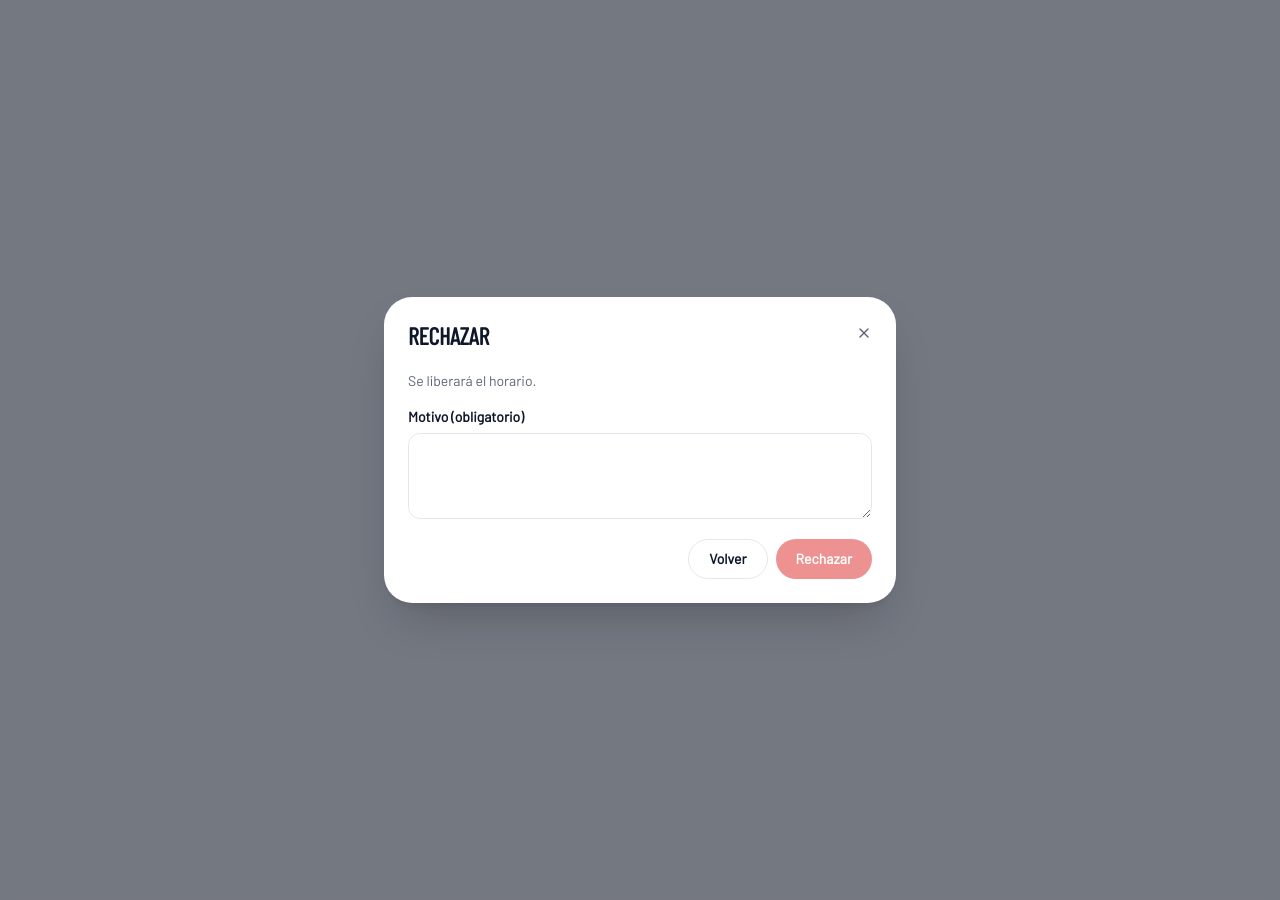
ModalMotivo › con motivo obligatorio no deja confirmar hasta escribir uno suficiente
Later steps or results of the test are not shown.
Expected: the button "Rechazar" is disabled, [776,539,872,579]
Type "ok" into the text box labelled "Motivo (obligatorio)" at (640,476), box [408,433,872,519]
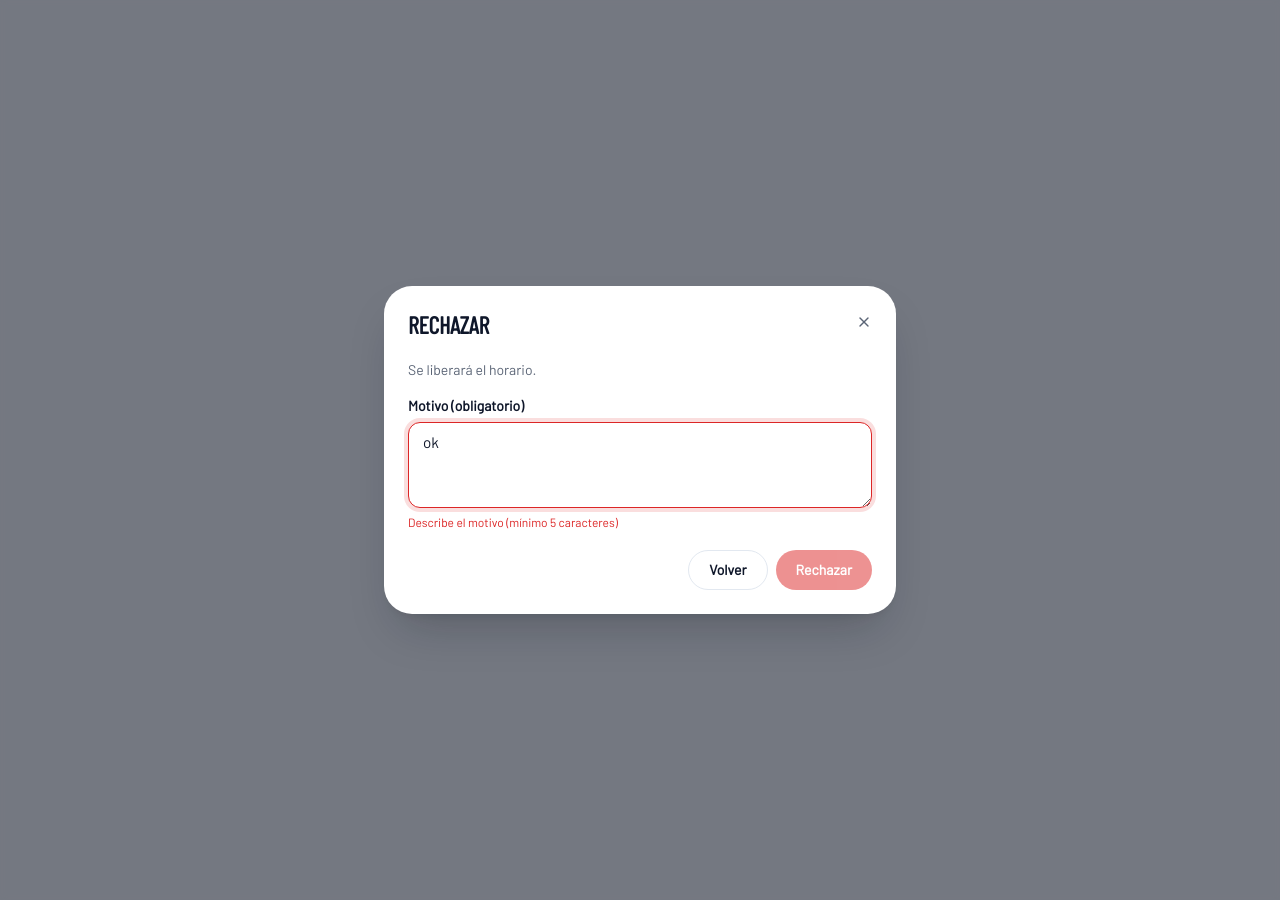
Expected: the button "Rechazar" is disabled, [776,550,872,590]
Type " es largo" into the text box labelled "Motivo (obligatorio)" at (640,465), box [408,422,872,508]
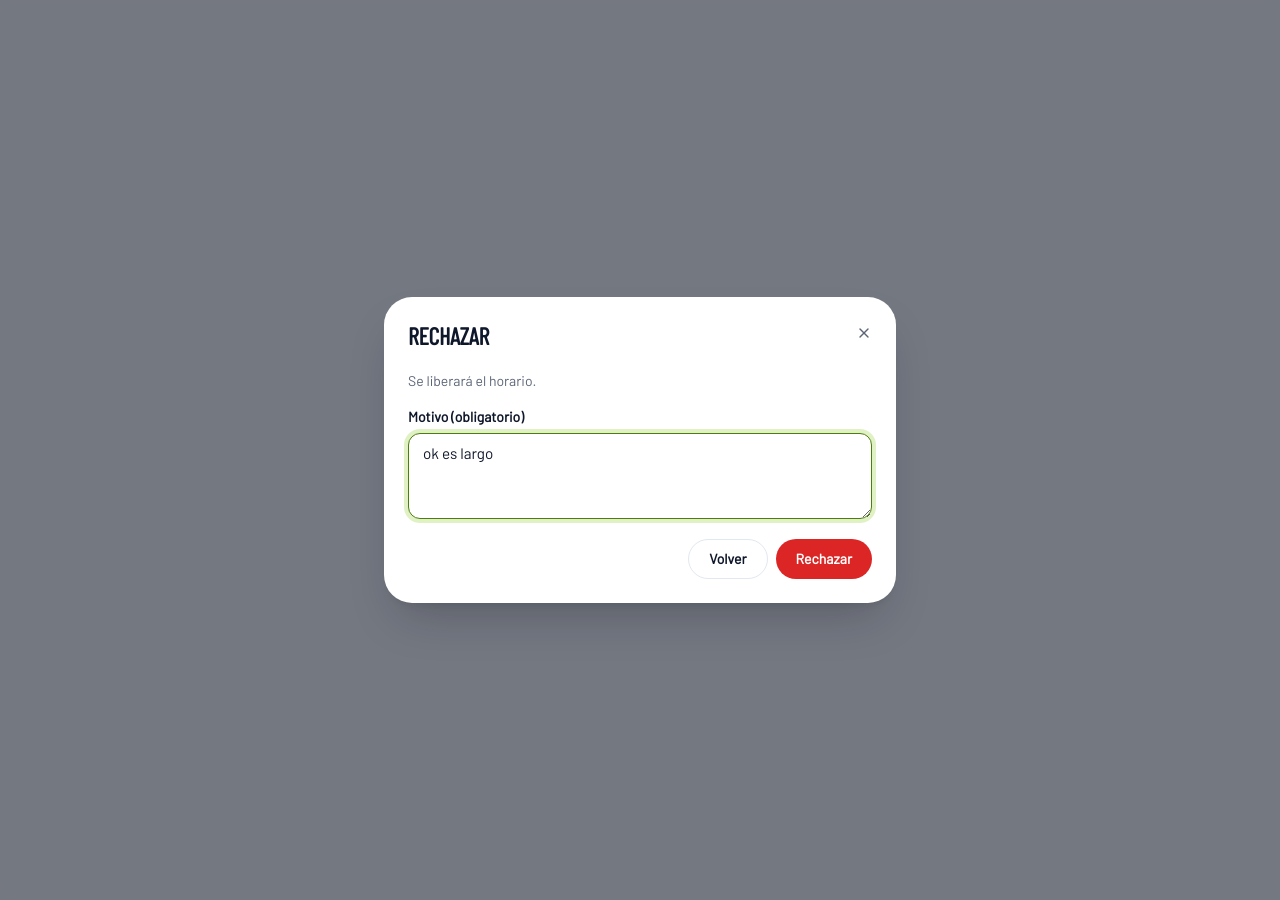
Expected: the button "Rechazar" is enabled, [776,539,872,579]
